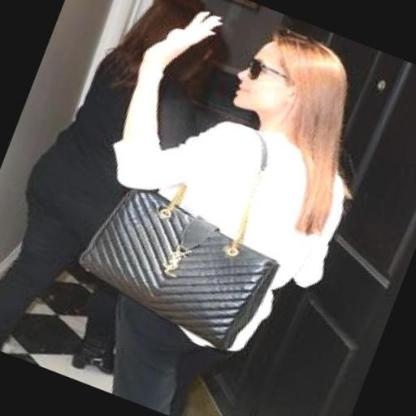bag: (72, 174, 287, 358)
person: (74, 4, 361, 416)
